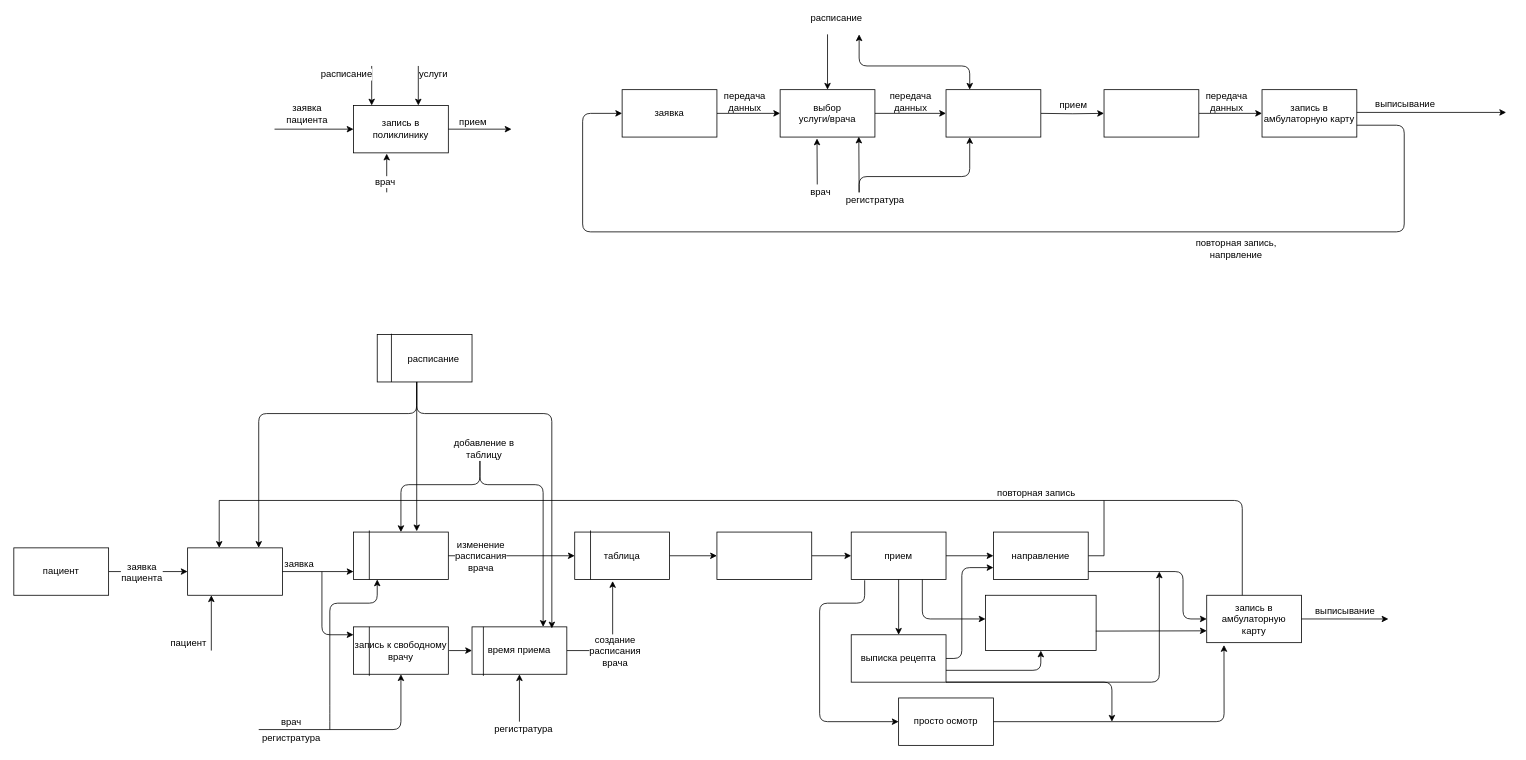
This 1526x760 diagram has some shape labels left out. Each missing label, with the box of its shape:
запись: (945, 89, 1041, 137)
запись на прием: (716, 531, 812, 579)
информация и рекомендации по болезни/недомоганию: (985, 594, 1096, 651)
определение врача: (353, 531, 448, 579)
результат приема: (1103, 89, 1199, 137)
создание заявки: (187, 547, 282, 595)
